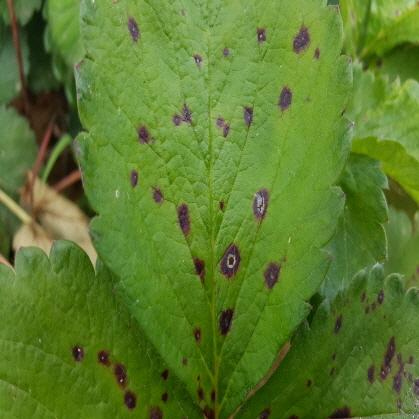Leaf Spot: (69, 0, 356, 418), (0, 239, 212, 418), (230, 262, 418, 418), (357, 43, 418, 84)
